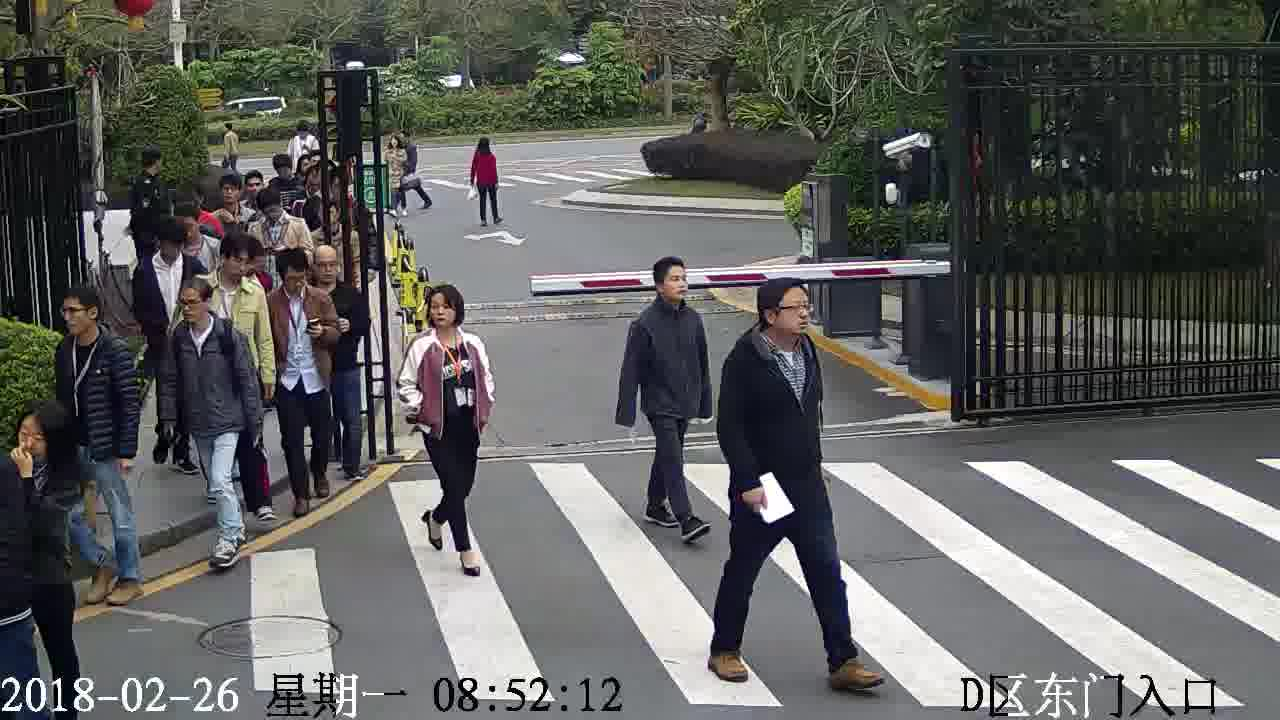face: (768, 286, 815, 333), (17, 415, 46, 464), (659, 264, 690, 303), (175, 284, 206, 323), (427, 291, 457, 330), (62, 297, 90, 337), (312, 251, 341, 287)
person: (724, 278, 817, 375), (1, 405, 95, 494), (56, 283, 133, 366), (412, 281, 488, 362), (629, 255, 704, 337), (171, 275, 238, 347), (203, 232, 263, 303), (139, 215, 199, 276), (305, 241, 357, 305), (267, 245, 314, 314), (254, 186, 309, 236), (171, 200, 216, 258), (208, 172, 256, 223), (133, 146, 168, 193), (267, 152, 307, 191), (239, 168, 270, 207), (289, 118, 320, 147), (471, 136, 498, 162), (386, 136, 409, 158), (221, 117, 240, 140)
